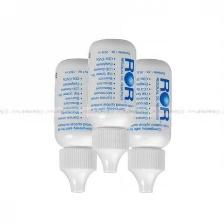cleaning_solution: (51, 57, 110, 197), (83, 34, 140, 177), (120, 56, 173, 197)
